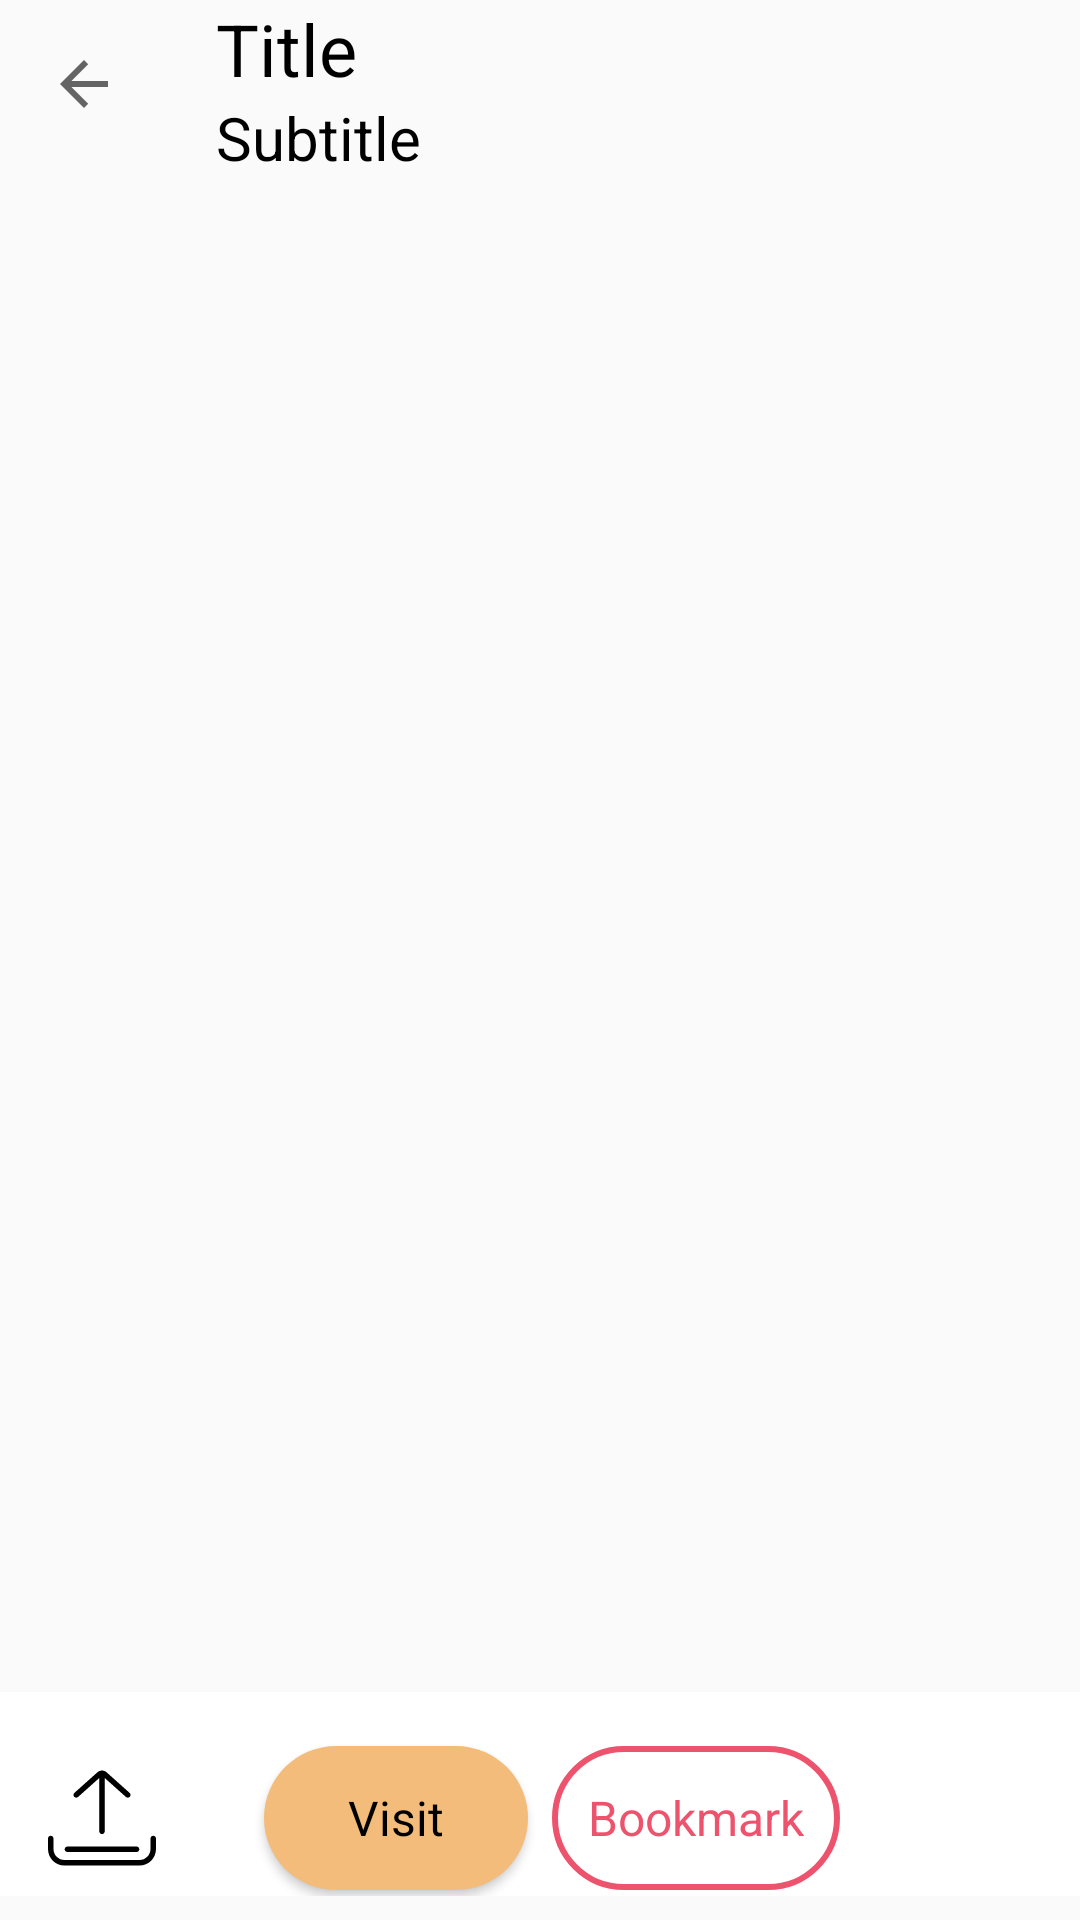

Icon bounding boxes for this 1080 × 1920 phone screenshot, format (x1, y1, x2, y2):
Share Icon: (48, 1770, 156, 1866)
